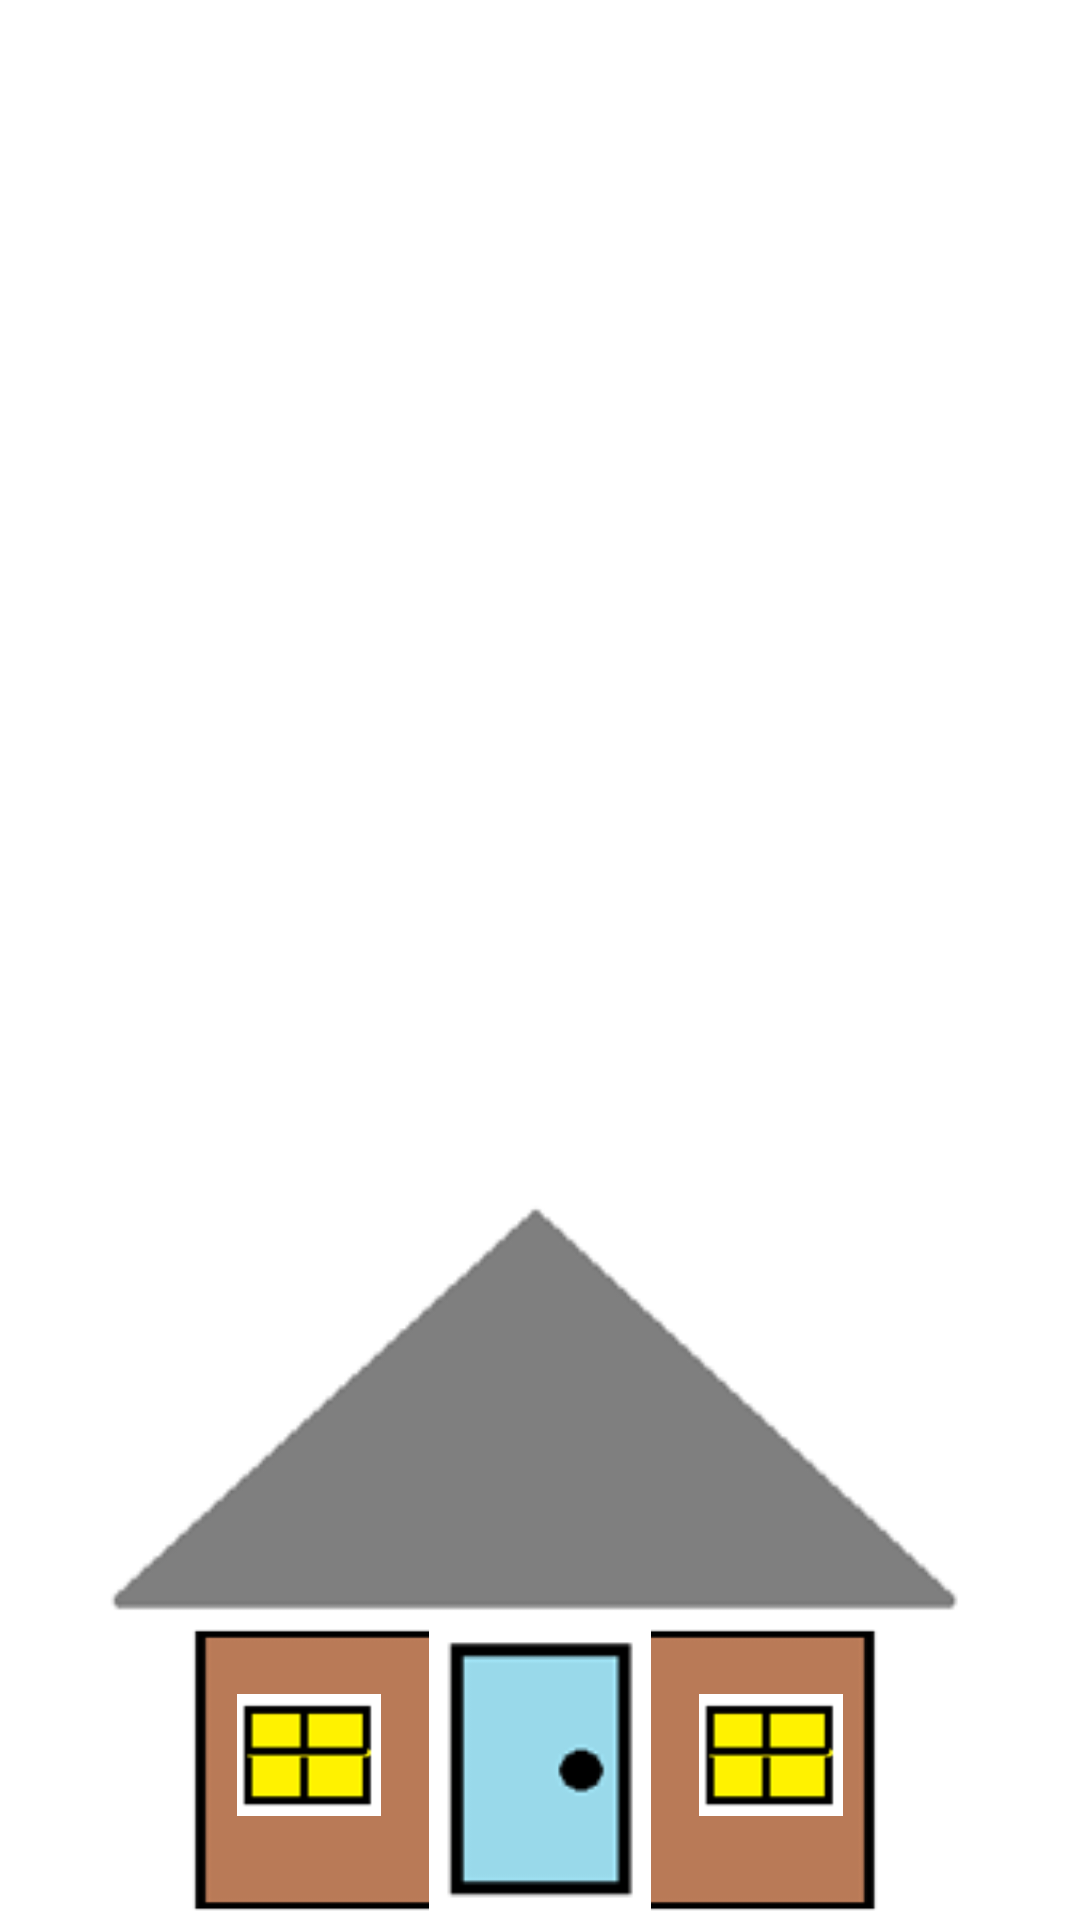

Screen size 1080px×1920px. Icon name, then its center in pixels as (x,y):
door: (540,1769)
window: (309,1755), (771,1755)
